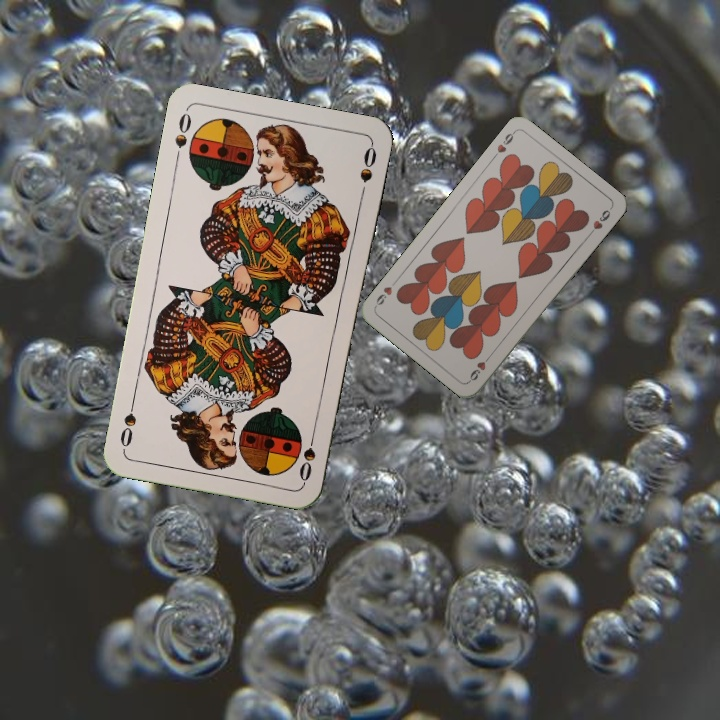H9: (488, 127, 518, 161), (465, 350, 494, 384)
SO: (170, 109, 194, 166), (295, 425, 318, 484)
